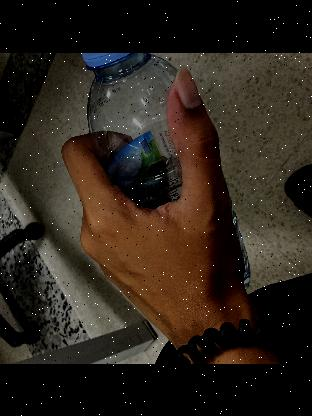Plastic Bottle: (64, 56, 202, 212)
